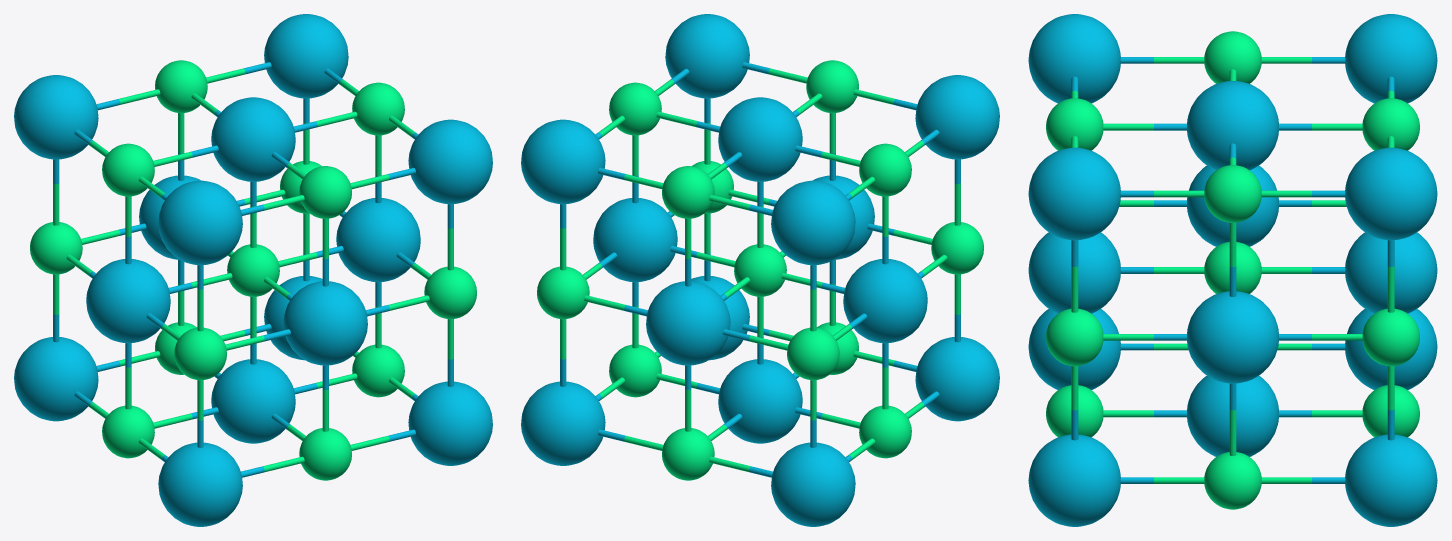
The model's file is halite_covalent.fbx.
The picture shows the model from 3 angles, left to right: view 1: azimuth 30°, elevation 25°; view 2: azimuth 150°, elevation 25°; view 3: azimuth 270°, elevation 25°; orthographic projection. The views are drawn at different scales.
Parts seen in each view (by area): view 1: Na05, Na18, Na01, Na14, Na13, Na11, Na25, Na08, Na19, Na24, Na27, Na15 (+15 smaller); view 2: Na11, Na24, Na08, Na22, Na21, Na05, Na25, Na01, Na19, Na18, Na27, Na15 (+15 smaller); view 3: Na18, Na24, Na13, Na21, Na27, Na05, Na11, Na19, Na14, Na22, Na15, Na01 (+34 smaller).
Part boxes in pixels (x1,y1,x2,y2): Na05: (158, 180, 242, 265); Na18: (408, 119, 492, 204); Na01: (158, 442, 242, 526); Na14: (283, 281, 367, 365); Na13: (408, 381, 492, 465); Na11: (14, 75, 98, 159); Na25: (86, 259, 170, 343); Na08: (14, 337, 98, 421); Na19: (211, 97, 295, 181); Na24: (264, 14, 348, 98); Na27: (336, 198, 420, 282); Na15: (211, 359, 295, 443); Na11: (771, 180, 855, 265); Na24: (521, 119, 605, 204); Na08: (771, 442, 855, 526); Na22: (646, 281, 730, 365); Na21: (521, 381, 605, 465); Na05: (915, 75, 999, 159); Na25: (843, 259, 927, 343); Na01: (915, 337, 999, 421); Na19: (718, 97, 802, 181); Na18: (665, 14, 749, 98); Na27: (593, 198, 677, 282); Na15: (718, 359, 802, 443); Na18: (1028, 147, 1120, 240); Na24: (1345, 147, 1437, 240); Na13: (1028, 434, 1120, 526); Na21: (1345, 434, 1437, 526); Na27: (1187, 291, 1278, 383); Na05: (1028, 14, 1120, 103); Na11: (1345, 14, 1437, 103); Na19: (1187, 81, 1278, 170); Na14: (1028, 232, 1120, 313); Na22: (1345, 232, 1437, 313); Na15: (1187, 376, 1278, 456); Na01: (1028, 309, 1120, 389).
Bounding box in the file's own units: 705 × 705 × 705.
